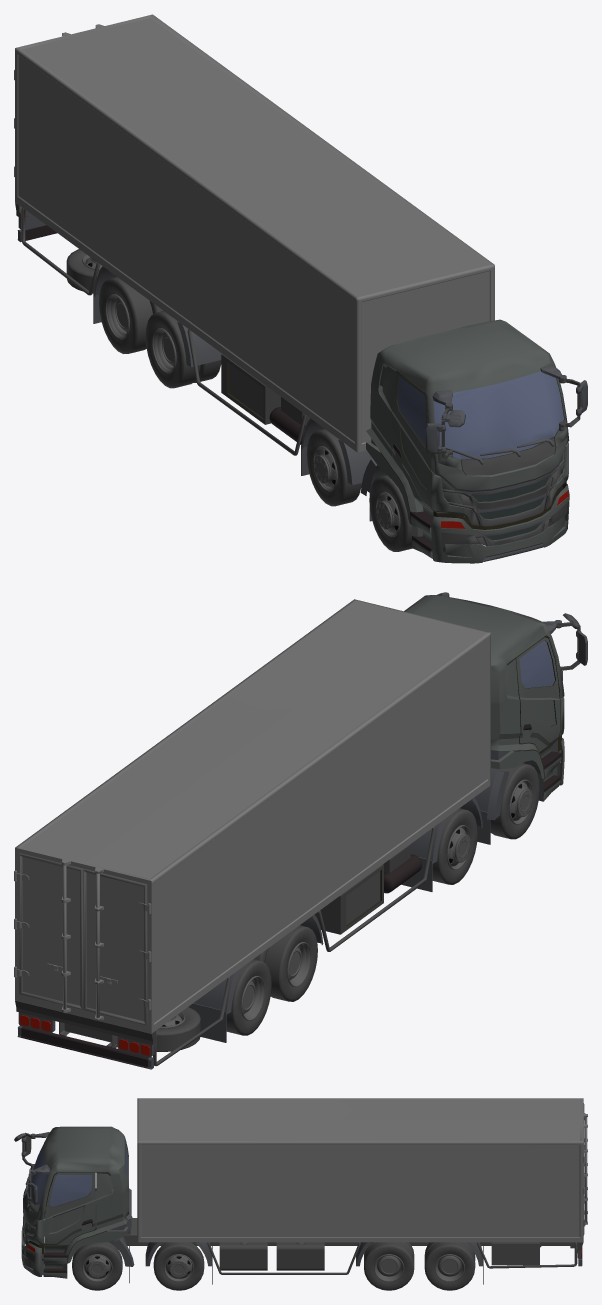
Rendered from truck_fin.obj.
The picture shows the model from 3 angles, top to bottom: view 1: azimuth 30°, elevation 25°; view 2: azimuth 150°, elevation 25°; view 3: azimuth 270°, elevation 25°; orthographic projection. The views are drawn at different scales.
Visible parts, largest first — view 1: Truck_Toolbox; view 2: Truck_Toolbox; view 3: Truck_Toolbox.
Part boxes in pixels (x1=…): Truck_Toolbox: x1=14, y1=14, x2=587, y2=563; Truck_Toolbox: x1=14, y1=592, x2=587, y2=1069; Truck_Toolbox: x1=14, y1=1098, x2=587, y2=1290.
Size of the model in its own units: 1.99 by 2.6 by 9.07.
